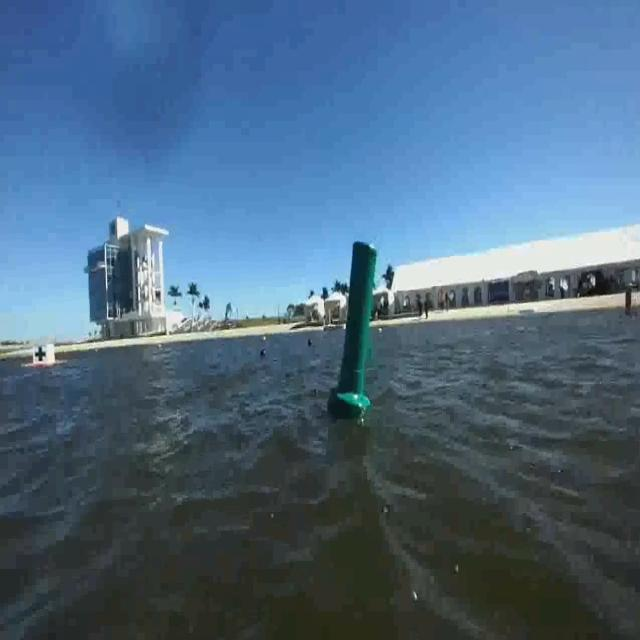green-column-buoy: (332, 240, 379, 419)
